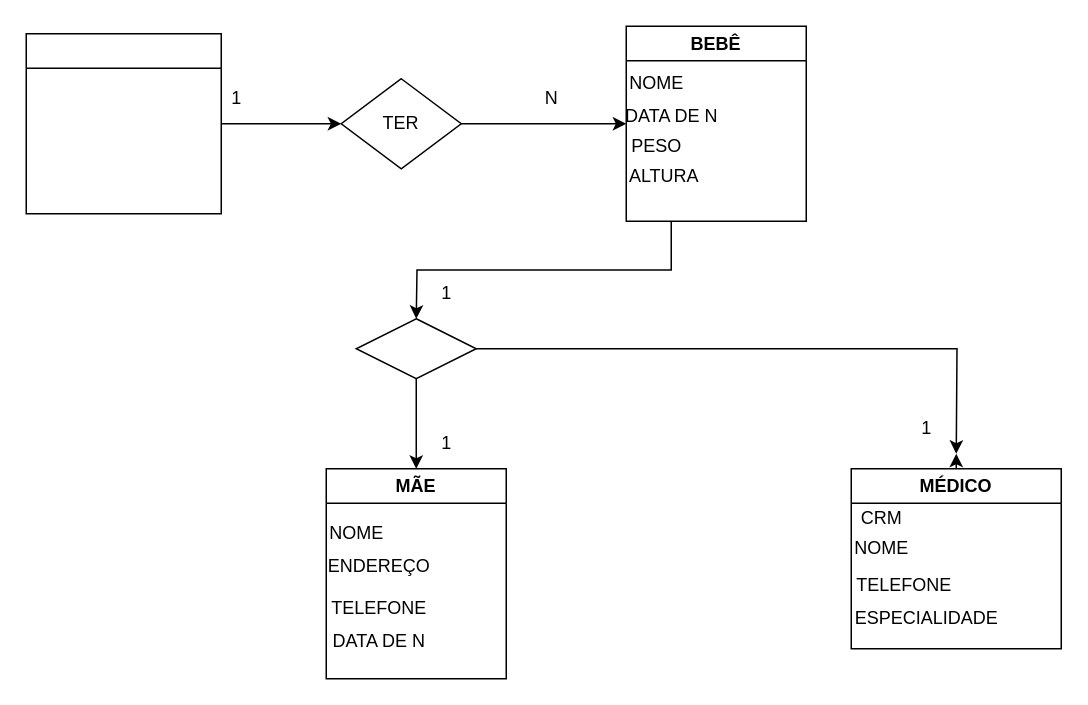
Some shapes in this 1088 by 705 pixel diagram are drawn without their labels. Each missing label, with the centre of its shape:
"BERÇARIA" belongs at point (123, 123).
"PARIR" belongs at point (415, 348).
